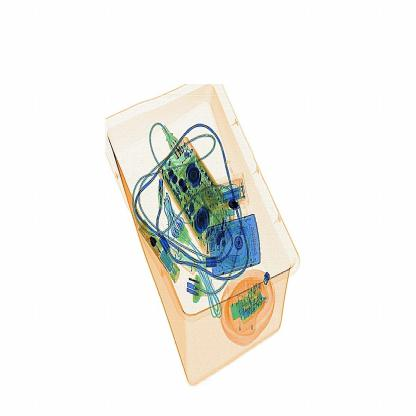knife: (223, 190, 247, 219)
